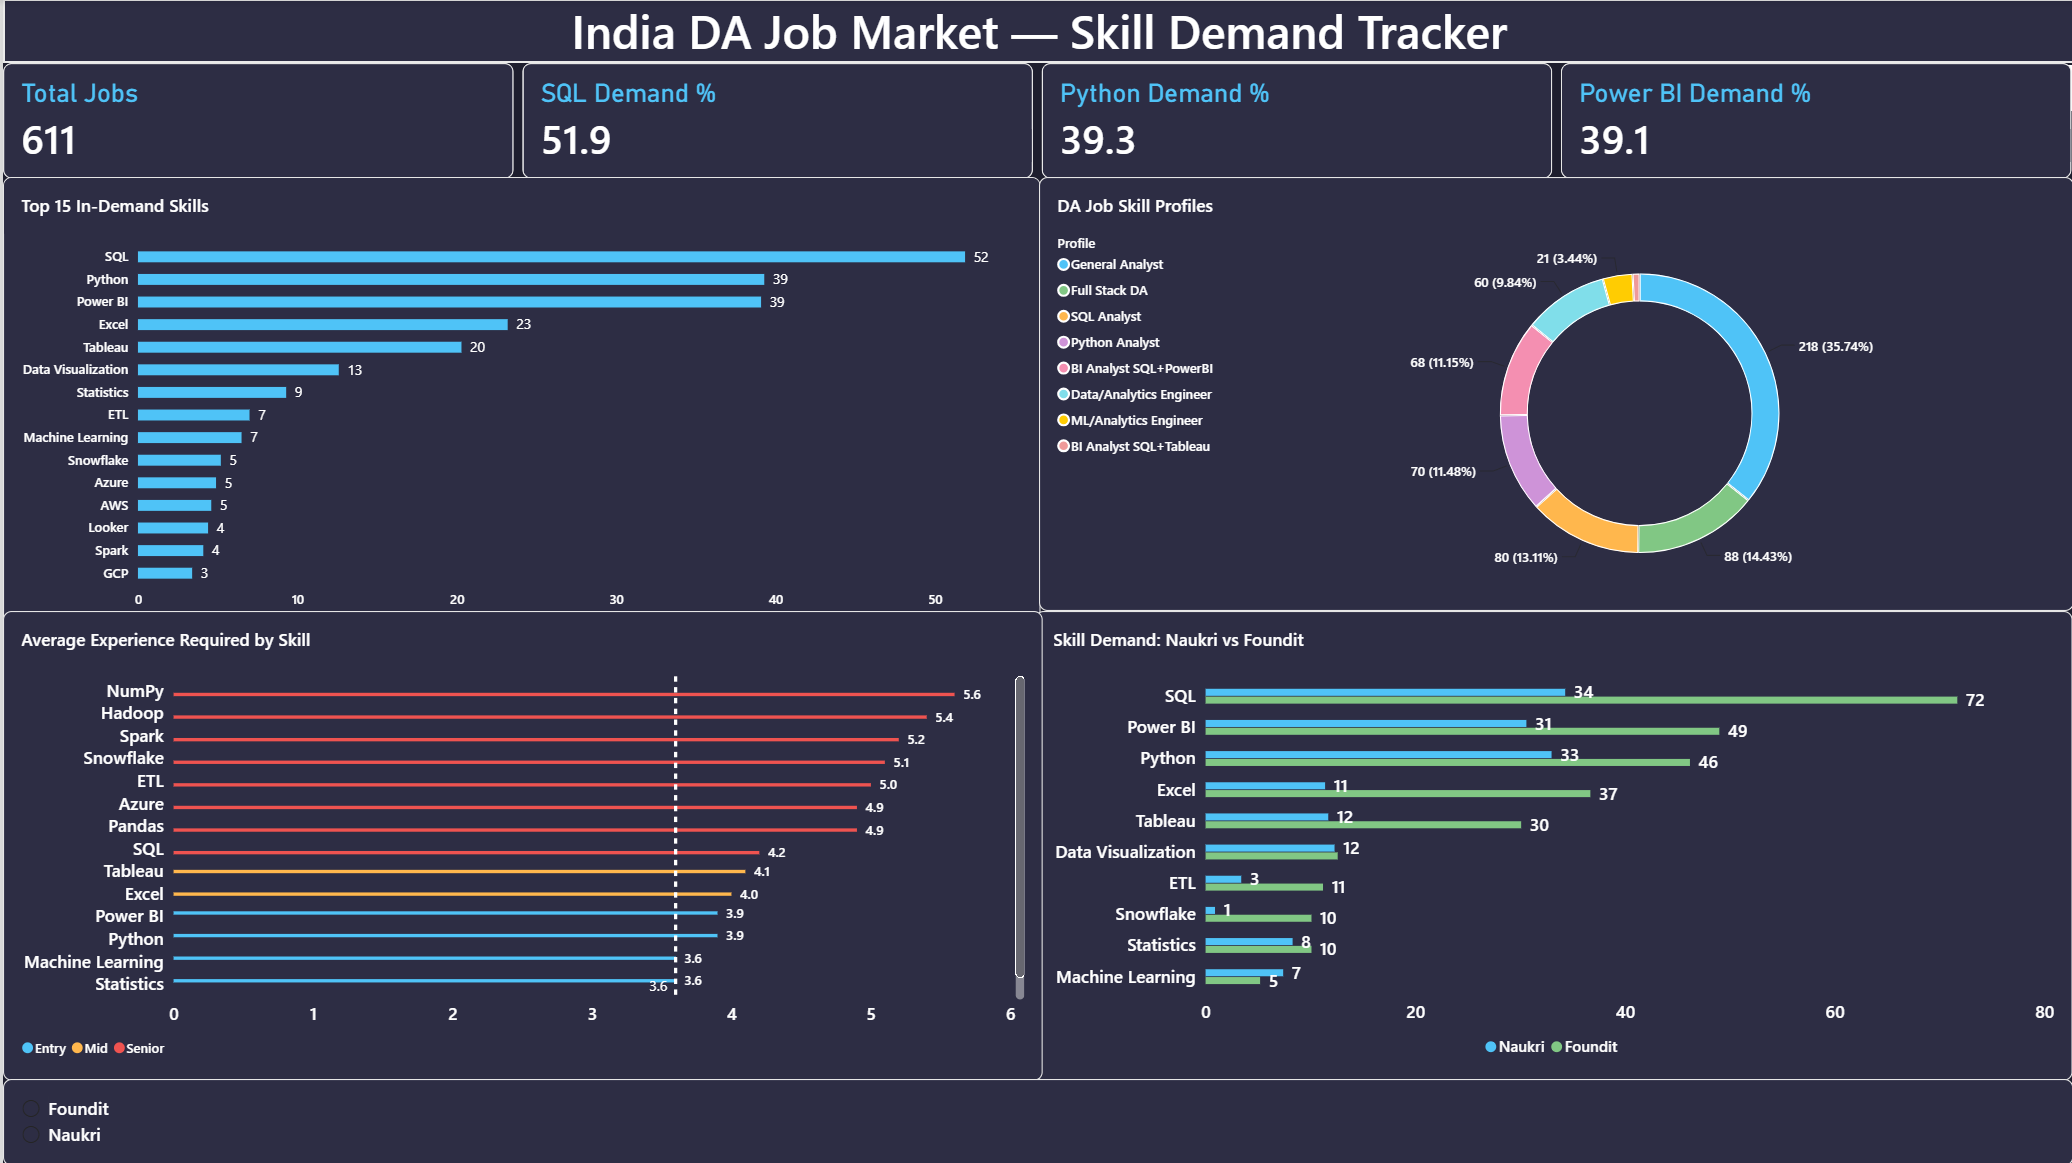

The page's visual inventory and layout, read from the dashboard file:
{"tool":"powerbi","page":{"name":"Page 1","canvas":[1920,1080],"ordinal":0},"visuals":[{"type":"textbox","box":[0,0,1919.6,58.9],"z":0},{"type":"cardVisual","fields":{"Data":["all_market_data_with_skills.Total Jobs","all_market_data_with_skills.SQL Demand %","all_market_data_with_skills.Python Demand %","all_market_data_with_skills.Power BI Demand %"]},"box":[0,58.9,1919.6,107.1],"z":1},{"type":"clusteredBarChart","title":"Top 15 In-Demand Skills","fields":{"Category":["Skill Summary.Skill"],"Y":["Sum(Skill Summary.Demand_Pct)"]},"box":[0,165.2,960.9,421.7],"z":2},{"type":"donutChart","title":"DA Job Skill Profiles","fields":{"Category":["Skill Profiles.Profile"],"Y":["Sum(Skill Profiles.Count)"]},"box":[958.7,165.2,958.7,402.2],"z":3},{"type":"clusteredBarChart","title":"Skill Demand: Naukri vs Foundit","fields":{"Category":["Source Comparison.Skill"],"Y":["Sum(Source Comparison.Naukri_Pct)","Sum(Source Comparison.Foundit_Pct)"]},"box":[956.5,567.4,960.9,434.8],"z":4},{"type":"clusteredBarChart","title":"Average Experience Required by Skill","fields":{"Category":["Skill Experience.Skill"],"Y":["Sum(Skill Experience.Avg_Experience)"],"Series":["Skill Experience.Seniority"]},"box":[0,567.4,963,434.8],"z":5},{"type":"listSlicer","fields":{"Values":["all_market_data_with_skills.Source_Clean"]},"box":[0,1000,1917.4,80.4],"z":6}]}

Visuals, with their boxes in screenshot pixels (x1, y1, x2, y2), scaled from the page's 1920x1080 canvas onto the 2072x1163 screenshot:
textbox: crop(0, 0, 2071, 63)
cardVisual - all_market_data_with_skills.Total Jobs x all_market_data_with_skills.SQL Demand %: crop(0, 63, 2071, 179)
"Top 15 In-Demand Skills" clusteredBarChart: crop(0, 178, 1037, 632)
"DA Job Skill Profiles" donutChart: crop(1035, 178, 2069, 611)
"Skill Demand: Naukri vs Foundit" clusteredBarChart: crop(1032, 611, 2069, 1079)
"Average Experience Required by Skill" clusteredBarChart: crop(0, 611, 1039, 1079)
listSlicer - all_market_data_with_skills.Source_Clean: crop(0, 1077, 2069, 1162)
